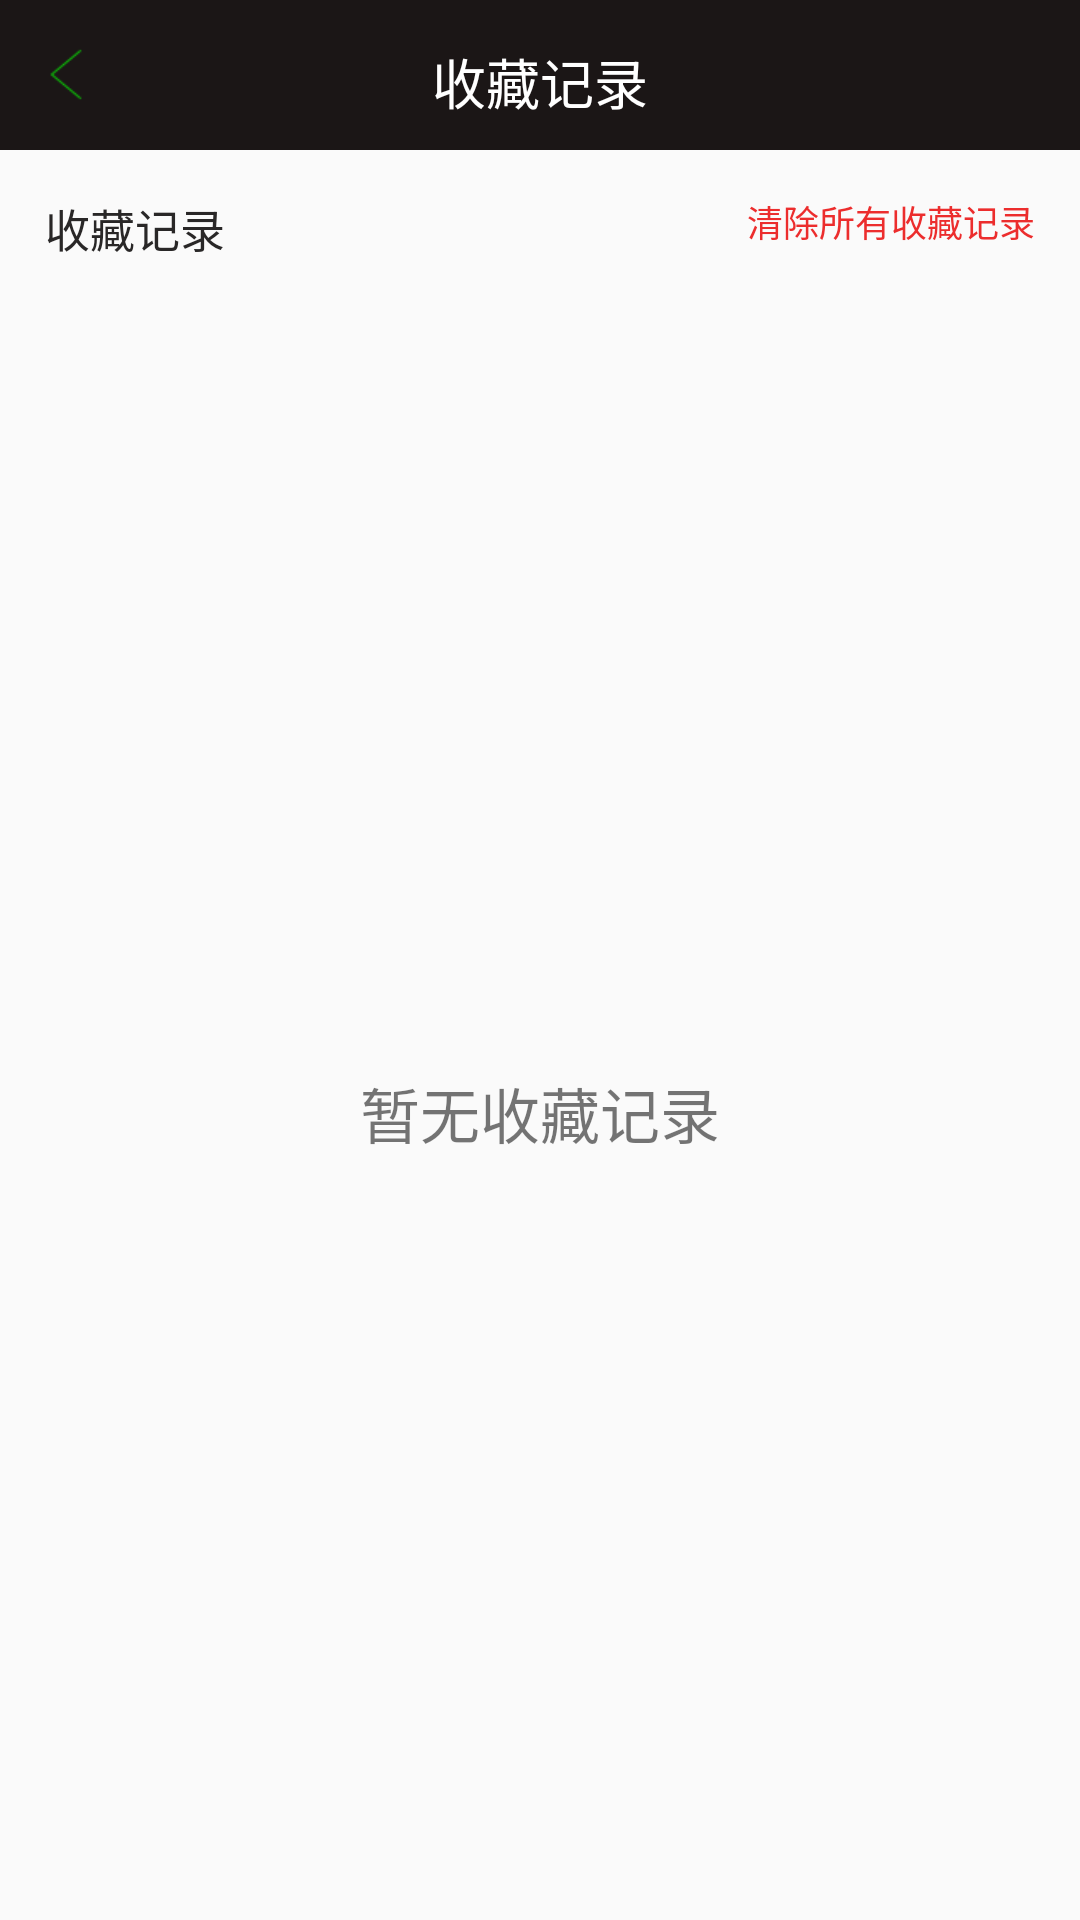

Locate icon controls on the screen. Image size 1080 x 1920, boxes as (x1, y1, x2, y2).
phone account back: (50, 50, 82, 99)
